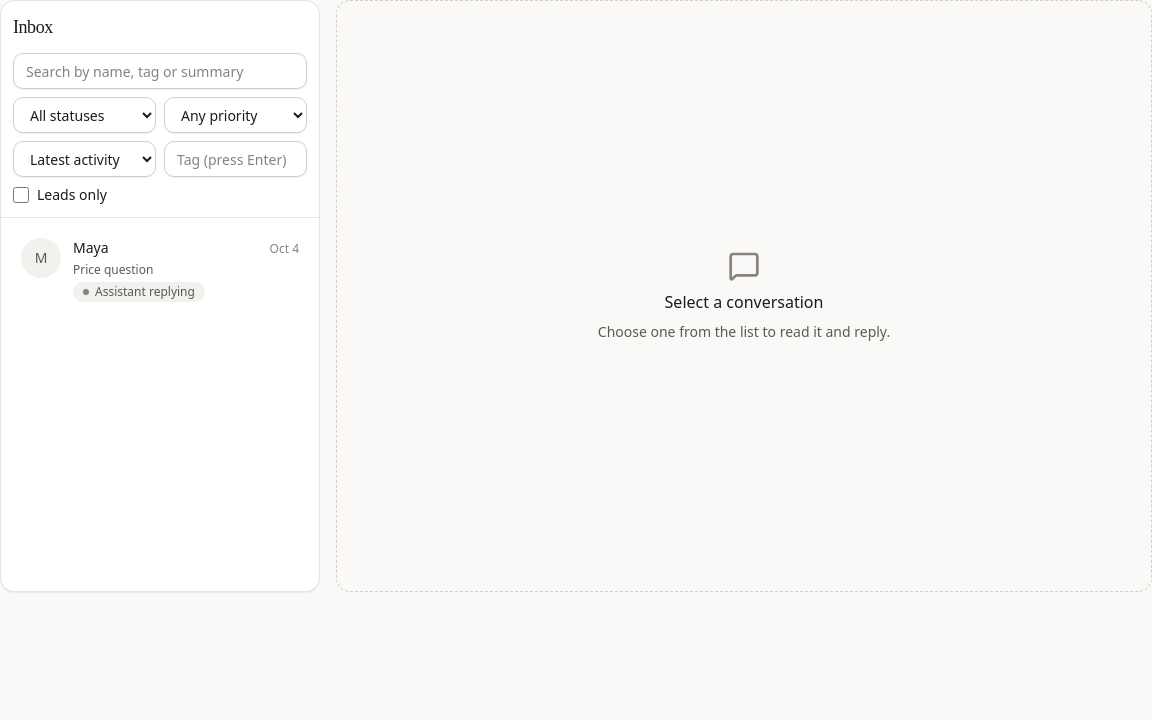
it: conversation list › filters the server applies › clears every filter at once
Step 1. Select "Resolved" in the dropdown named "Status" → (84,115), box [13, 97, 156, 133]
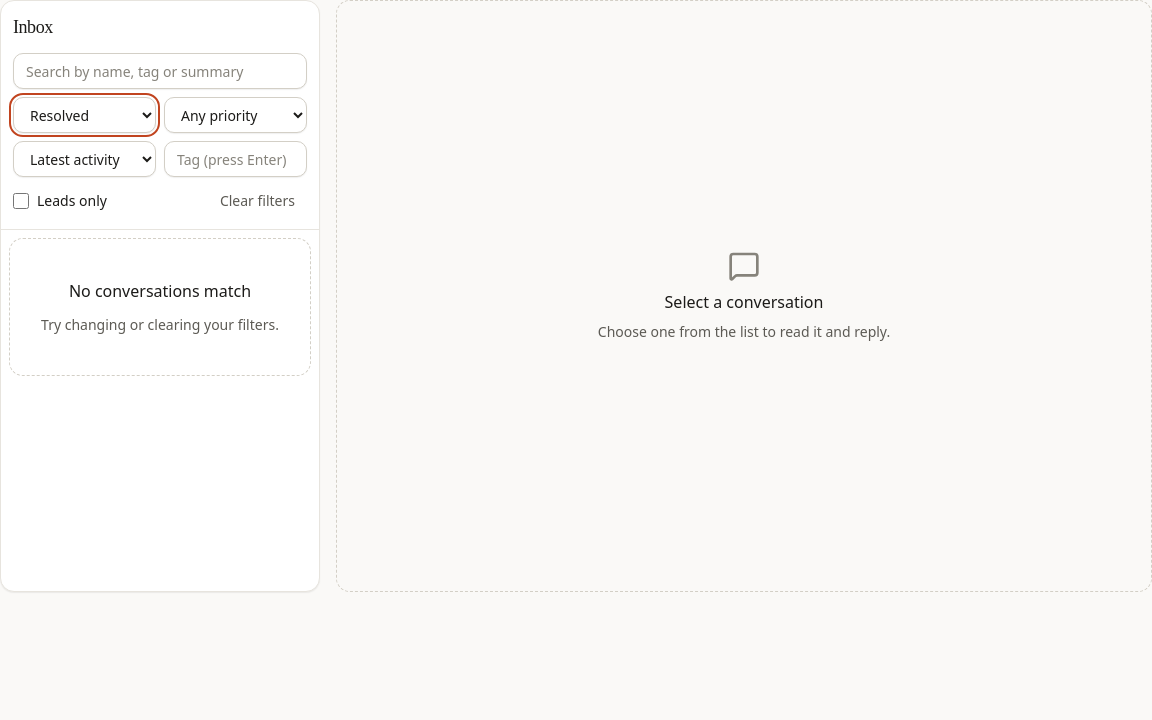
Step 2. Click the button "Clear filters" → (257,201), box [208, 185, 307, 217]
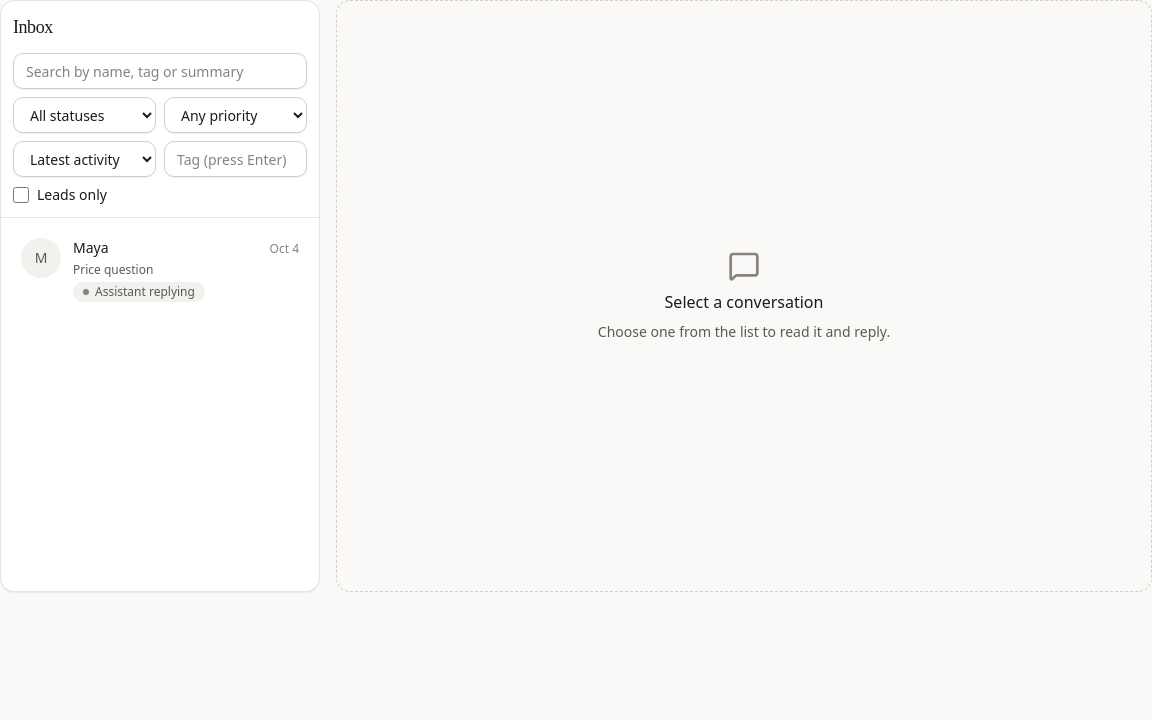
Expected: the button "Clear filters" is gone
